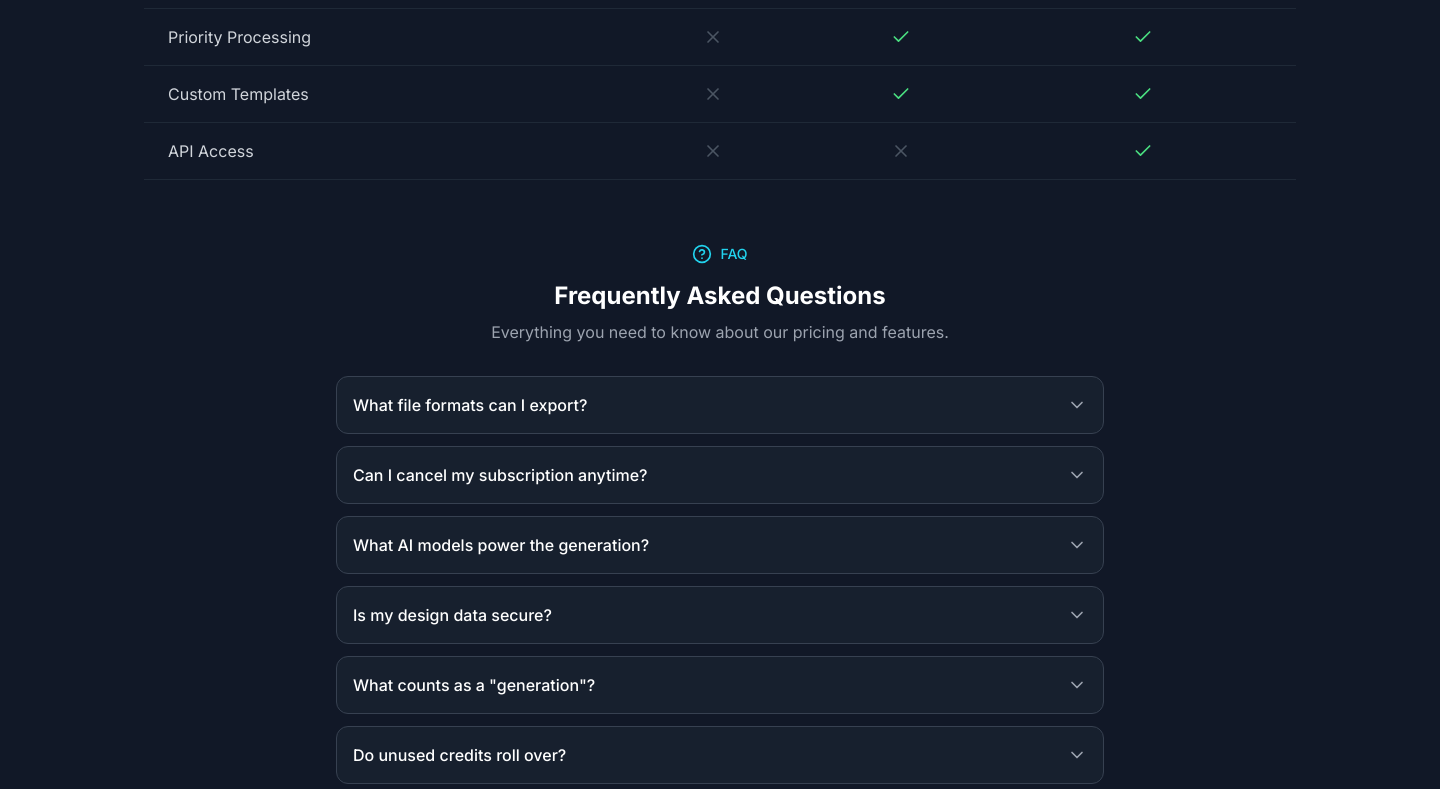
it: PricingPage › FAQ Section › collapses FAQ answer when clicked again
The width and height of the screenshot is (1440, 789).
(page scrolled)
Expected: the text "What file formats can I export?" is shown, 353,393 -> 603,417
Click the button "What file formats can I export?": [470, 405] box 337,377 -> 1103,433
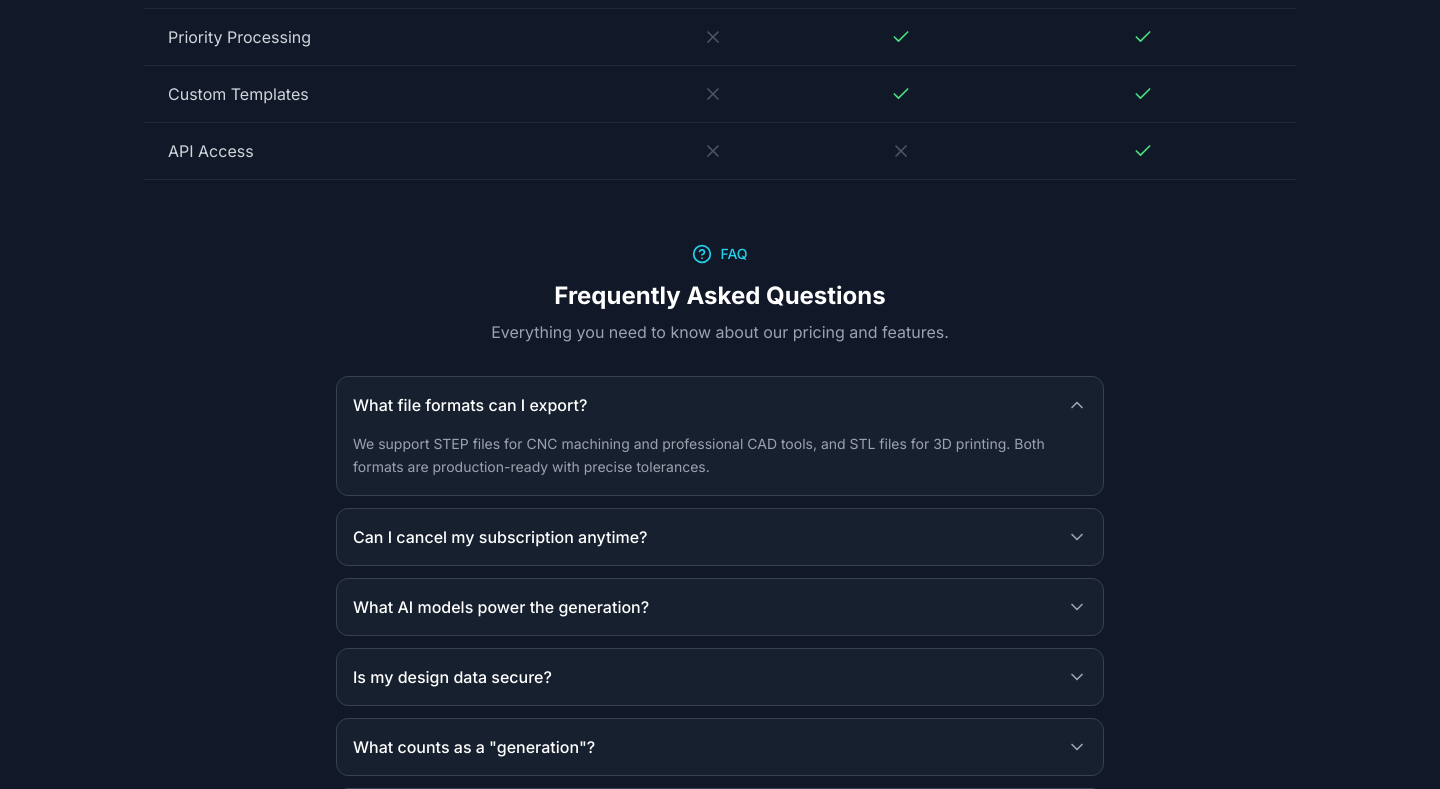
Expected: the text "We support STEP files" is shown, 353,435 -> 1045,475
Click the button "What file formats can I export?": [470, 405] box 337,377 -> 1103,433
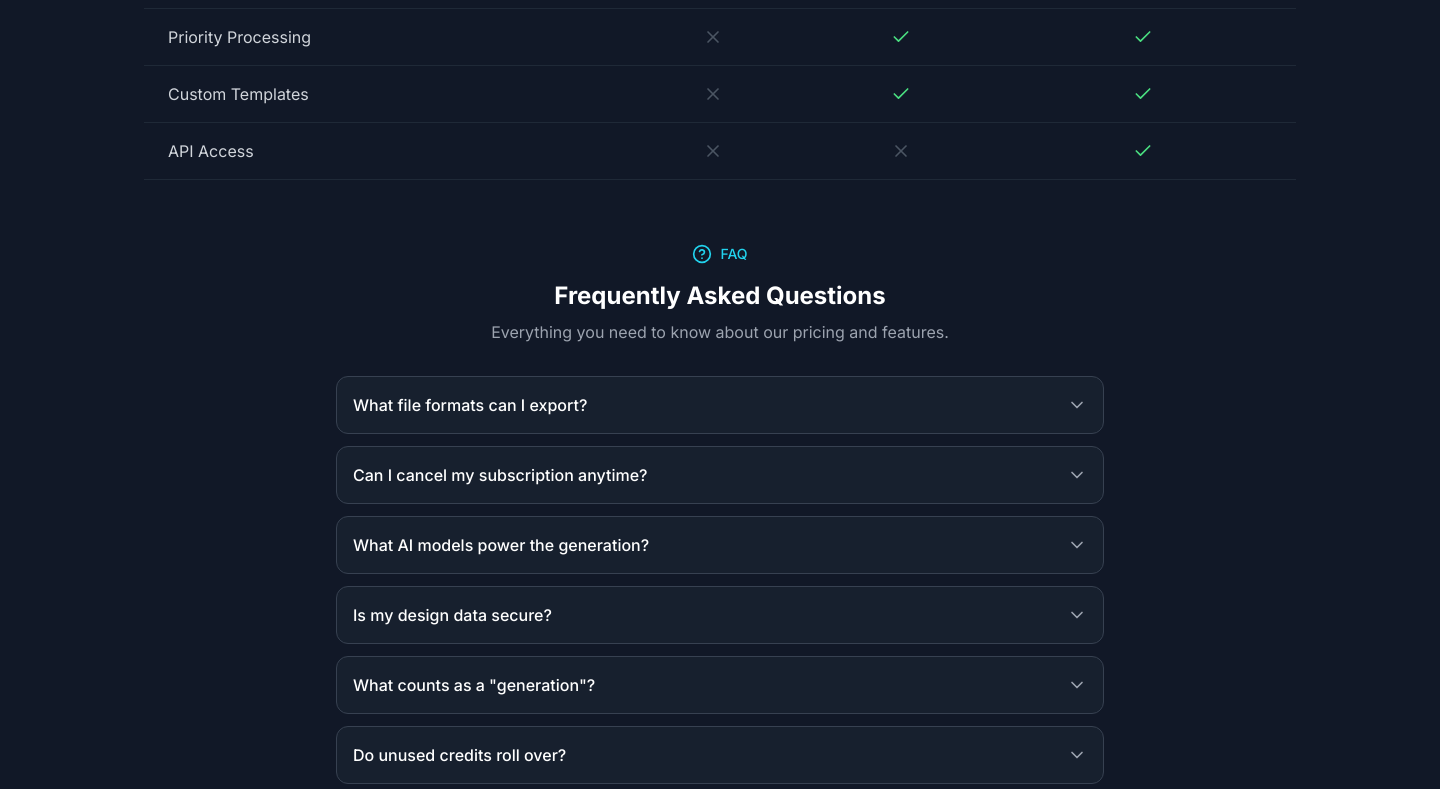
Expected: the text "We support STEP files" is gone
